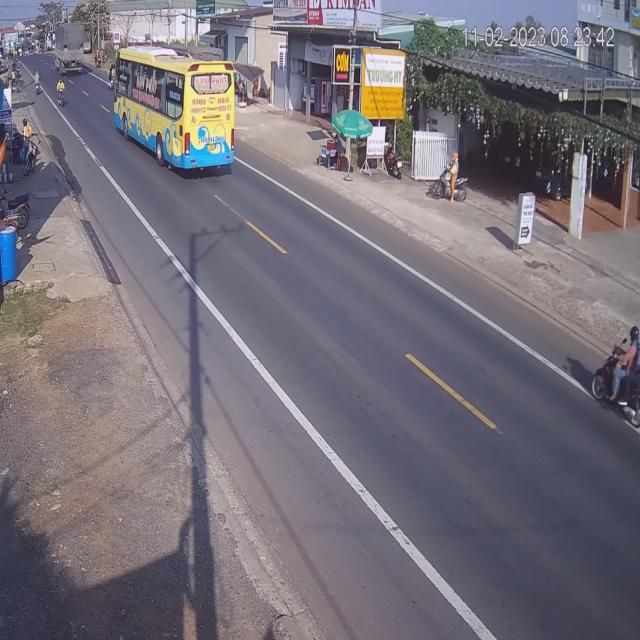bus: (111, 53, 233, 181)
motorbike: (593, 321, 640, 458), (58, 78, 66, 98)
truck: (57, 31, 85, 78)
